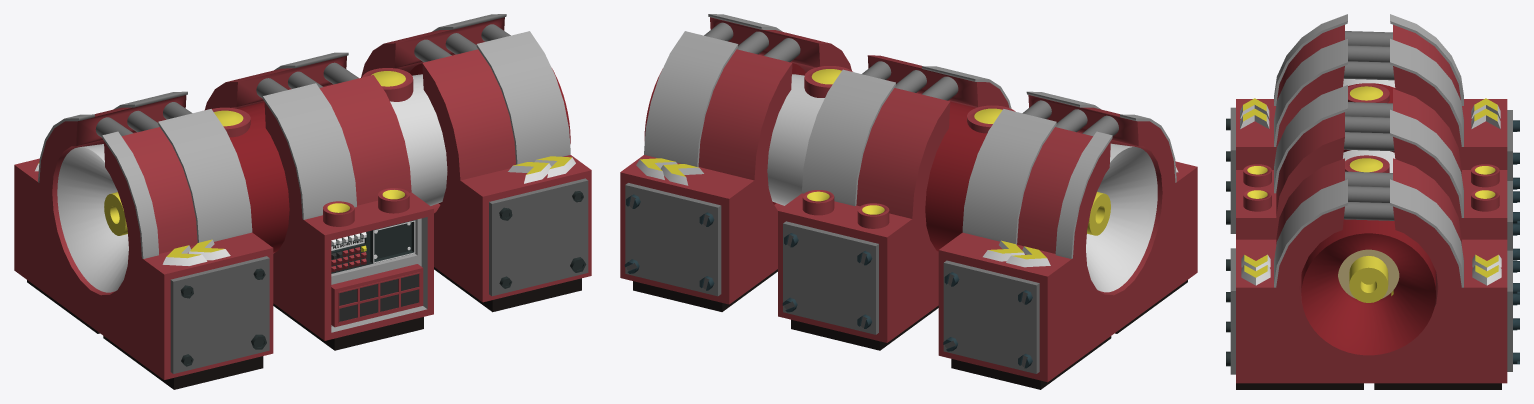
The model's file is EngineTurbine_1.fbx.
3 views of the same model, side by side, from view 1: azimuth 30°, elevation 25°; view 2: azimuth 150°, elevation 25°; view 3: azimuth 270°, elevation 25° (orthographic). The views are drawn at different scales.
Visible parts, largest first — view 1: Model; view 2: Model; view 3: Model.
Boxes of the visible parts, bbox=[...] form: Model: bbox=[14, 14, 591, 389]; Model: bbox=[620, 14, 1197, 389]; Model: bbox=[1226, 14, 1519, 389].
Size of the model in its own units: 376 by 172 by 239.
